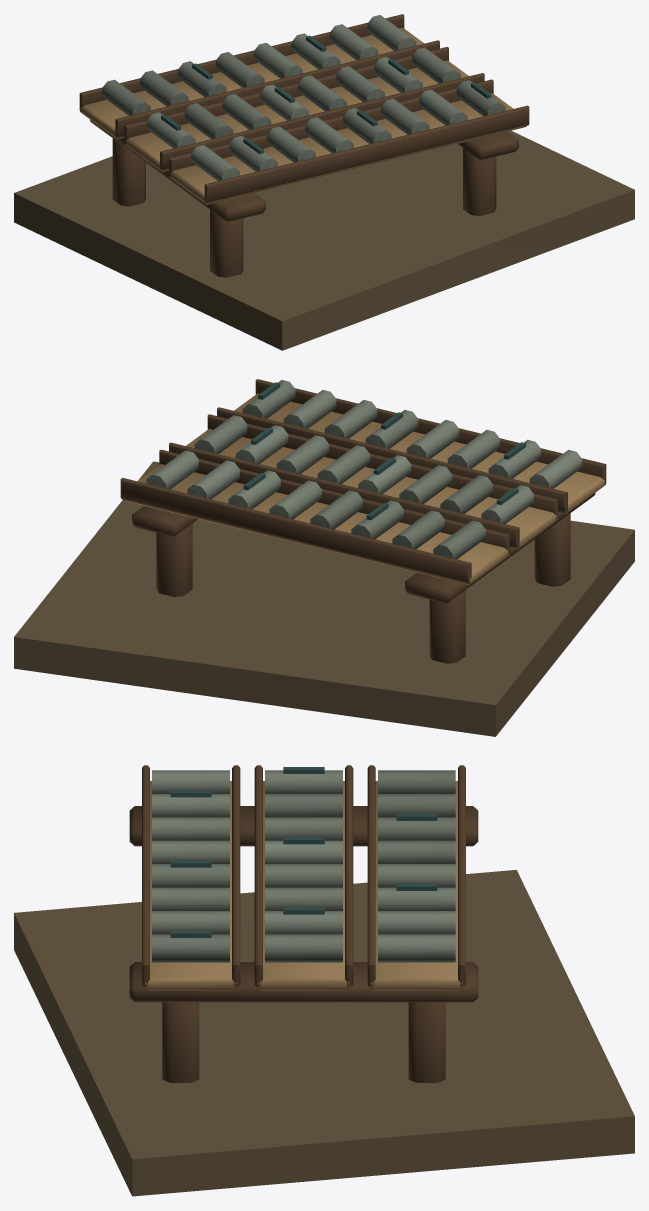
File: core_trays_a.glb
3 views of the same model, one above another, from view 1: azimuth 30°, elevation 25°; view 2: azimuth 150°, elevation 25°; view 3: azimuth 270°, elevation 25° (orthographic). The views are drawn at different scales.
Parts seen in each view (by area): view 1: Surface; view 2: Surface; view 3: Surface.
Boxes of the visible parts, x1,y1,x2,y2 form: Surface: [14, 14, 634, 350]; Surface: [14, 379, 634, 736]; Surface: [14, 765, 634, 1196].
Size of the model in its own units: 3.34 by 0.9875 by 3.03.
